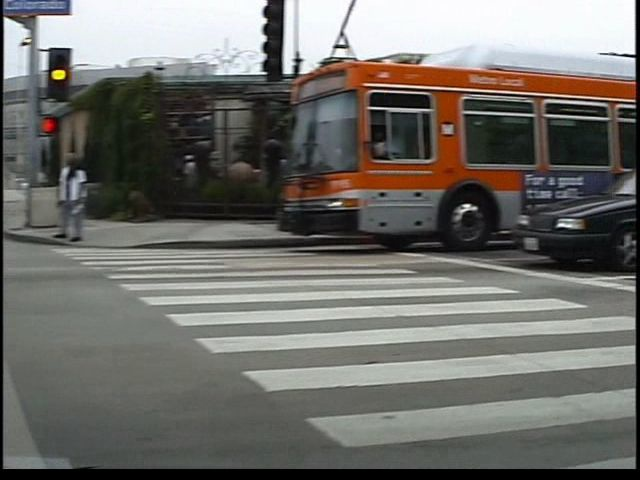person: (68, 148, 107, 248)
